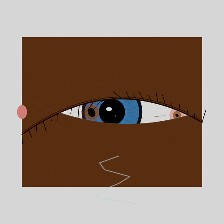foreign_body_visible: (168, 108, 186, 123)
